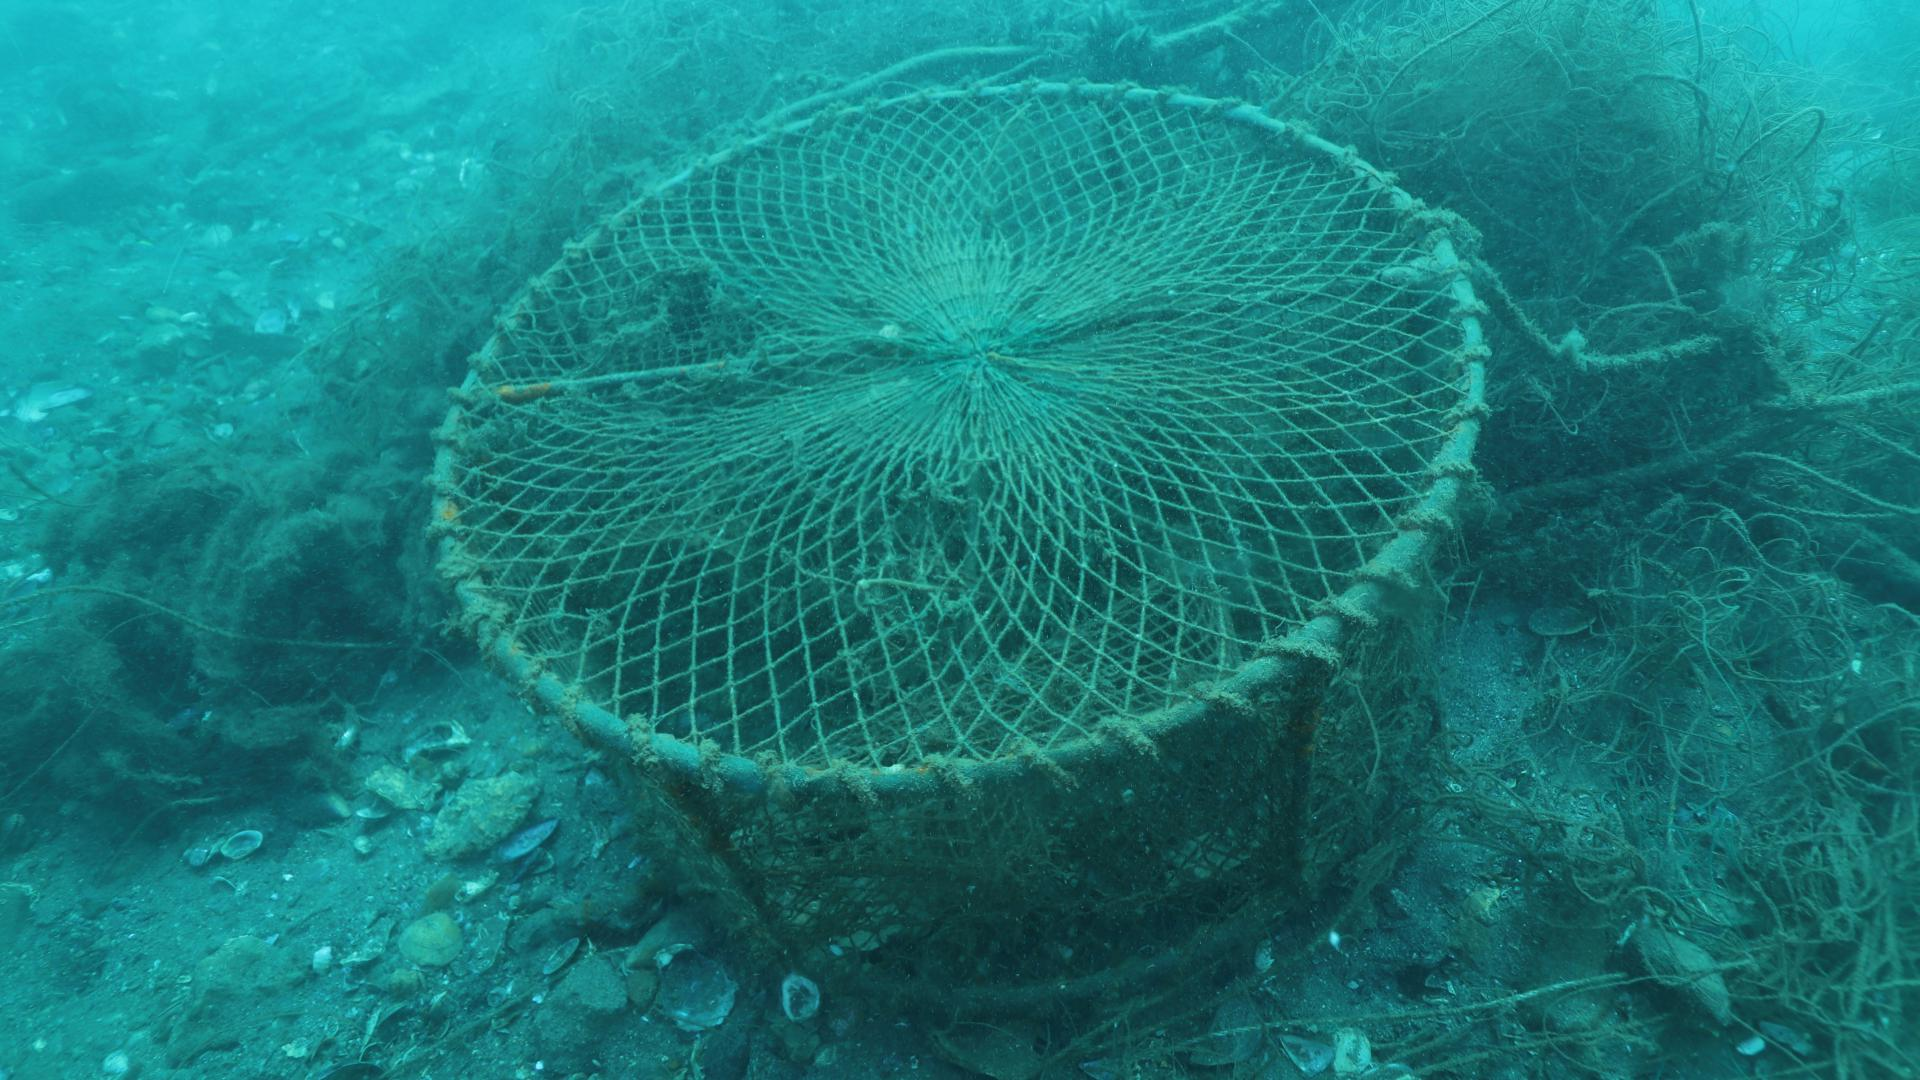circular fish trap: (426, 80, 1487, 1015)
